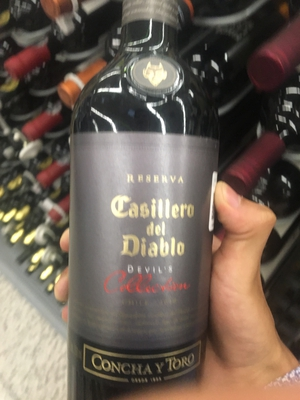casillero del diablo devils collection rojo: (57, 12, 226, 400)
